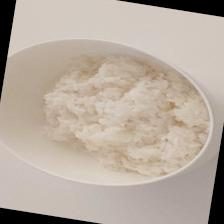rice: (33, 42, 216, 186)
